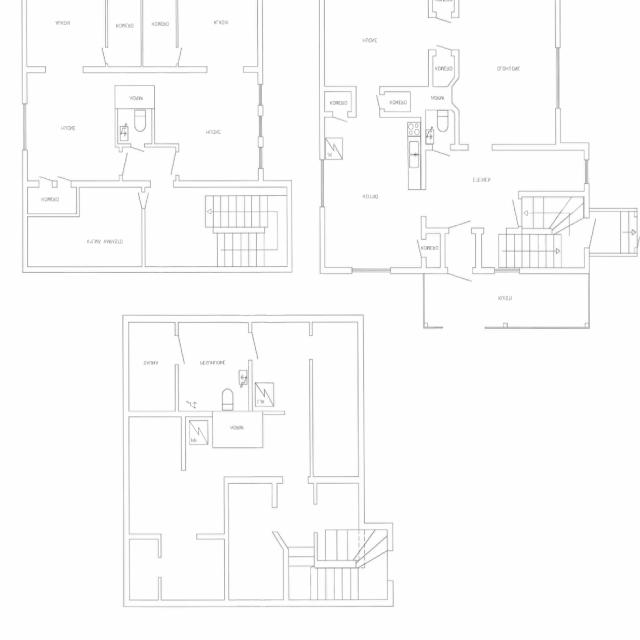door: (584, 218, 614, 248), (447, 268, 472, 304), (448, 200, 472, 233), (175, 336, 201, 364), (248, 333, 274, 360), (496, 199, 522, 226), (432, 144, 451, 173), (156, 152, 178, 175), (119, 152, 141, 175), (435, 30, 452, 56), (436, 12, 452, 37), (406, 239, 426, 257), (333, 112, 348, 136), (57, 164, 71, 187), (38, 164, 52, 187), (91, 47, 107, 64), (142, 192, 158, 208), (128, 192, 144, 208), (176, 47, 191, 64), (131, 144, 144, 163), (368, 95, 384, 109), (635, 216, 640, 248)
